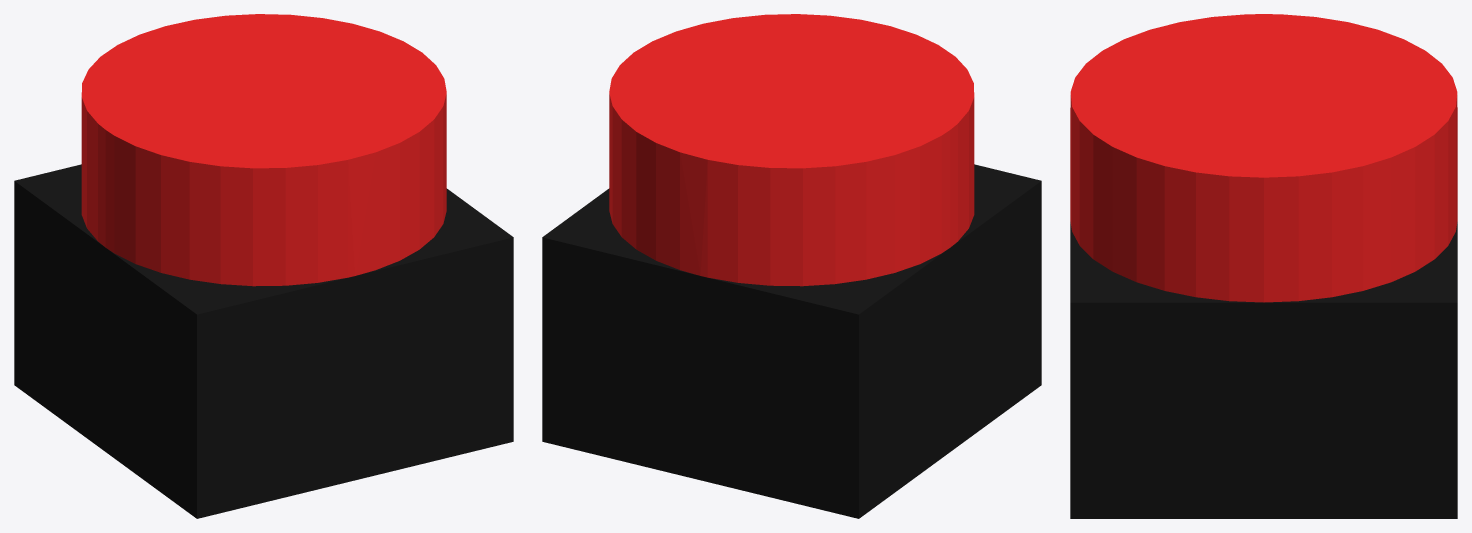
File: base_lidar_link.dae
The picture shows the model from 3 angles, left to right: view 1: azimuth 30°, elevation 25°; view 2: azimuth 150°, elevation 25°; view 3: azimuth 270°, elevation 25°; orthographic projection. The views are drawn at different scales.
Visible parts, largest first — view 1: base_lidar_link.001, base_lidar_link; view 2: base_lidar_link.001, base_lidar_link; view 3: base_lidar_link, base_lidar_link.001.
Boxes of the visible parts, left/top/right/bottom form: base_lidar_link.001: left=14, top=164, right=513, bottom=518; base_lidar_link: left=81, top=14, right=446, bottom=286; base_lidar_link.001: left=542, top=164, right=1041, bottom=518; base_lidar_link: left=609, top=14, right=974, bottom=286; base_lidar_link: left=1070, top=14, right=1457, bottom=302; base_lidar_link.001: left=1070, top=222, right=1457, bottom=518.
Bounding box in the file's own units: 0.036 × 0.036 × 0.035.
